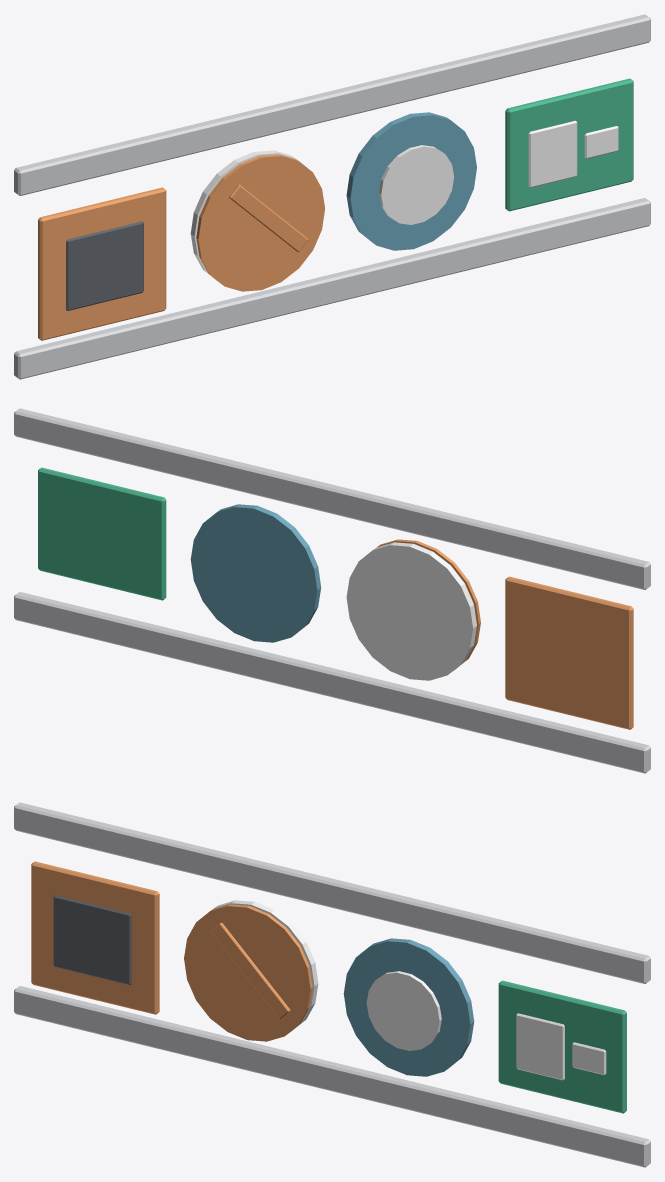
3 renders of one model, top to bottom at view 1: azimuth 30°, elevation 25°; view 2: azimuth 150°, elevation 25°; view 3: azimuth 330°, elevation 25°, orthographic.
Visible parts, largest first — view 1: lab-safety-sign-set; view 2: lab-safety-sign-set; view 3: lab-safety-sign-set.
Part boxes in pixels (x1,y1,x2,y2): lab-safety-sign-set: (14, 14, 650, 379); lab-safety-sign-set: (14, 408, 650, 773); lab-safety-sign-set: (14, 802, 650, 1167).
Bounding box in the file's own units: 1.3 × 0.41 × 0.047.
